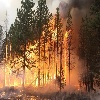fire: (2, 12, 70, 100)
